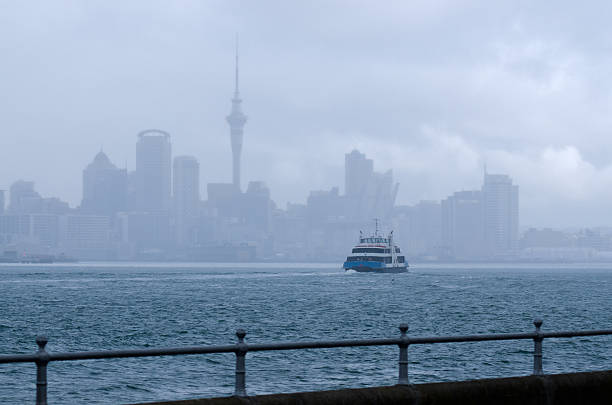ferry: (342, 234, 409, 272)
